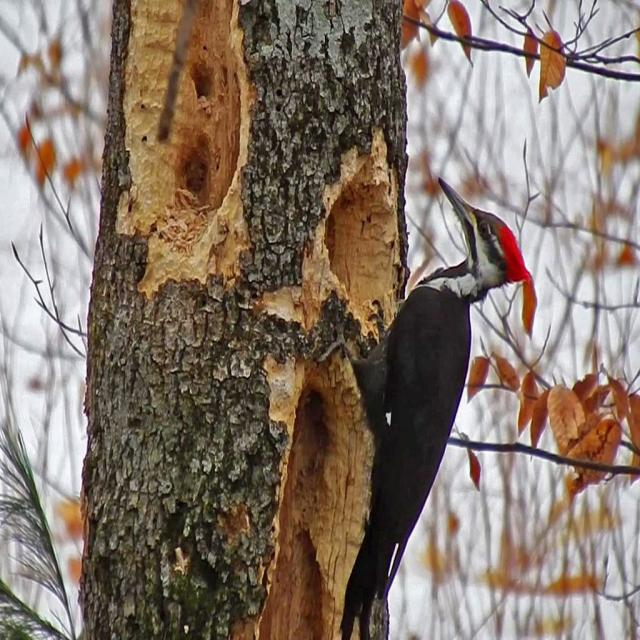Woodpecker: (336, 158, 540, 640)
